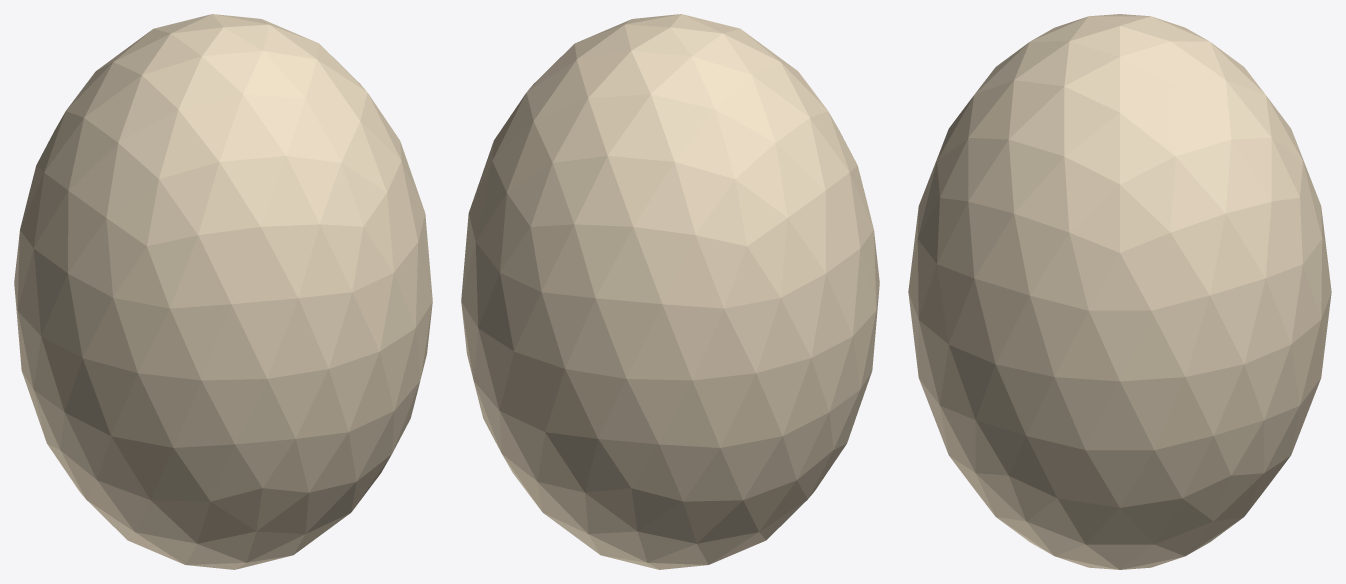
The model's file is egg.glb.
The picture shows the model from 3 angles, left to right: view 1: azimuth 30°, elevation 25°; view 2: azimuth 150°, elevation 25°; view 3: azimuth 270°, elevation 25°; orthographic projection.
Parts seen in each view (by area): view 1: low poly tan egg; view 2: low poly tan egg; view 3: low poly tan egg.
Part boxes in pixels (x1,y1,x2,y2): low poly tan egg: [14, 14, 432, 569]; low poly tan egg: [461, 14, 879, 569]; low poly tan egg: [908, 14, 1331, 569].
Bounding box in the file's own units: 0.62 × 0.86 × 0.62.
